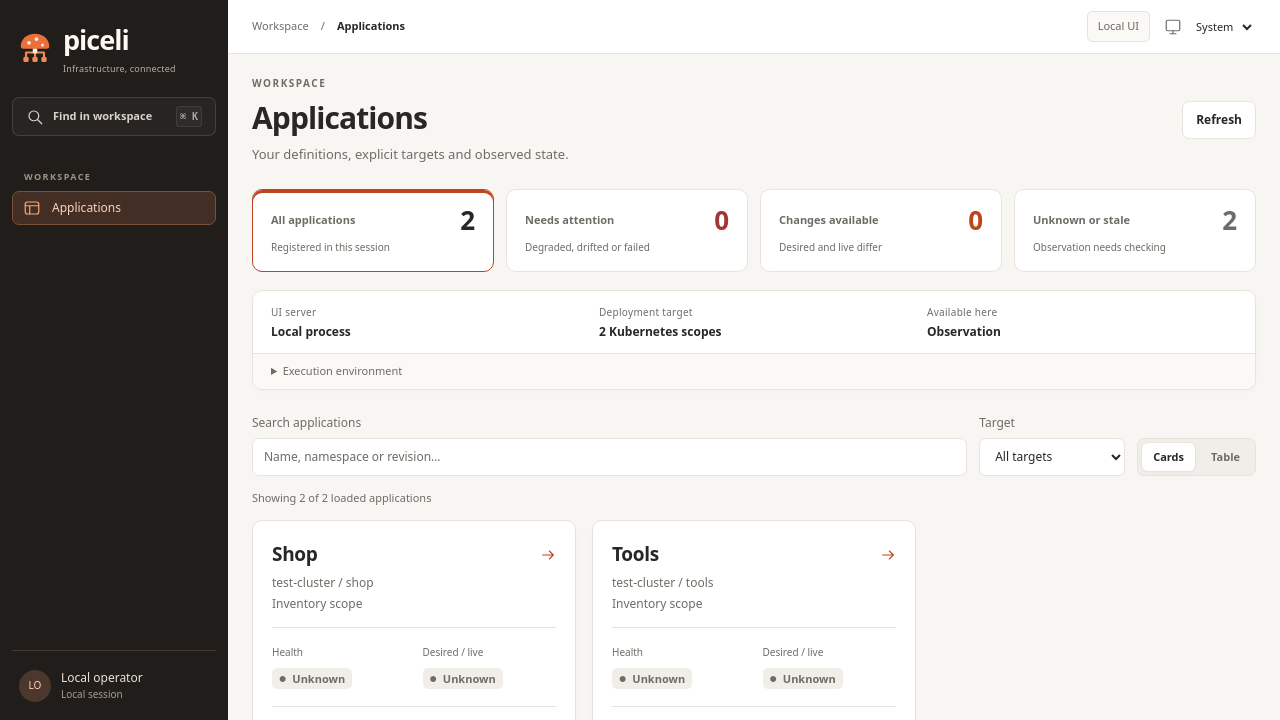
Test case: navigation and session capabilities › keeps keyboard navigation focused on the new main content
Click the link "Shop" at (295, 554), box [272,540,556,569]
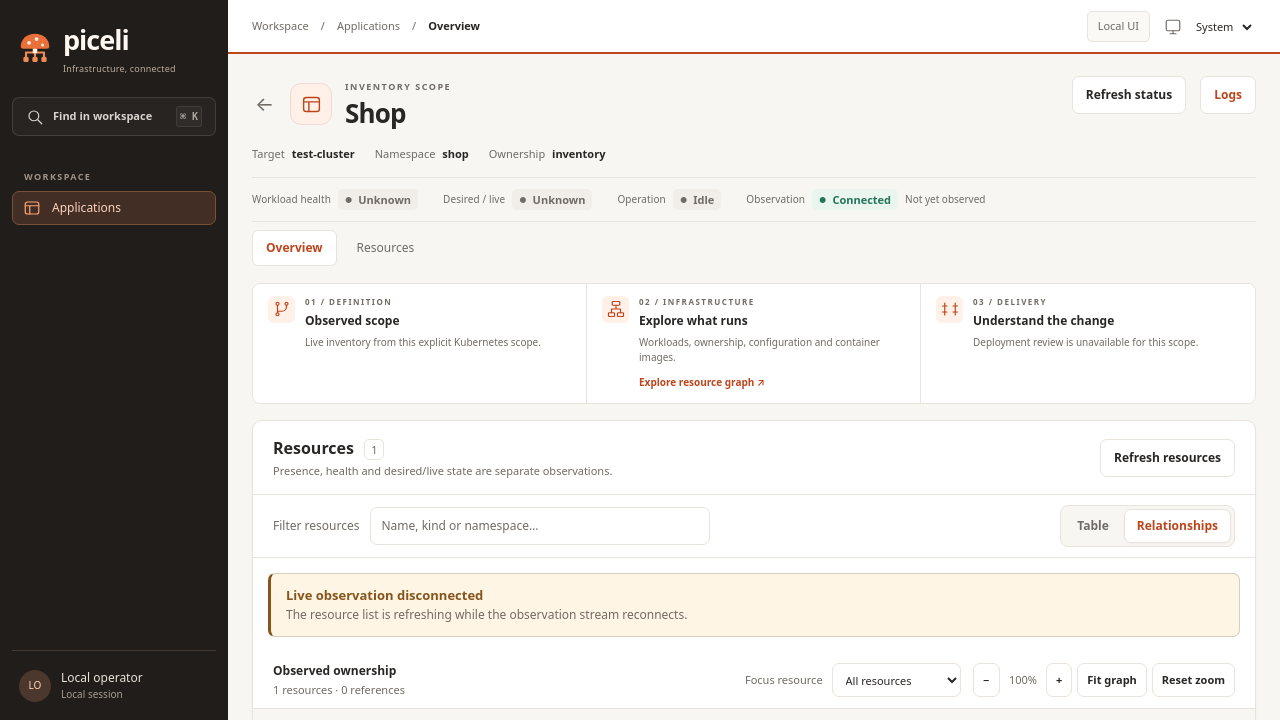
Result: the heading "Shop" is shown at [345,95,406,131]
